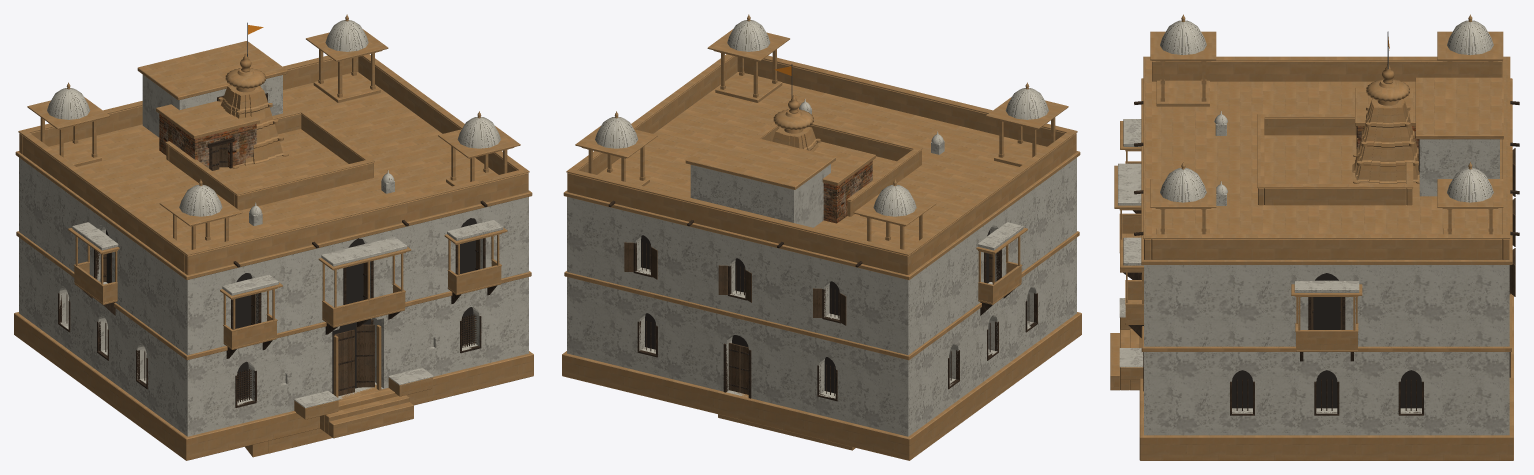
File: southasia.glb
3 renders of one model, left to right at view 1: azimuth 30°, elevation 25°; view 2: azimuth 150°, elevation 25°; view 3: azimuth 270°, elevation 25°, orthographic. The views are drawn at different scales.
Visible parts, largest first — view 1: haveli_mesh, house_town_mesh, temple_small_mesh, well_step_mesh; view 2: haveli_mesh, house_town_mesh, temple_small_mesh, well_step_mesh; view 3: haveli_mesh, temple_small_mesh, house_town_mesh.
Boxes of the visible parts, bbox=[...] form: haveli_mesh: bbox=[14, 14, 533, 460]; house_town_mesh: bbox=[156, 101, 394, 225]; temple_small_mesh: bbox=[218, 22, 288, 168]; well_step_mesh: bbox=[245, 428, 332, 457]; haveli_mesh: bbox=[562, 14, 1081, 460]; house_town_mesh: bbox=[799, 99, 944, 223]; temple_small_mesh: bbox=[772, 64, 820, 151]; well_step_mesh: bbox=[718, 414, 855, 450]; haveli_mesh: bbox=[1110, 14, 1519, 460]; temple_small_mesh: bbox=[1352, 31, 1419, 183]; house_town_mesh: bbox=[1214, 87, 1418, 205].
Bounding box in the file's own units: 16.9 × 15.48 × 14.55.
19 materials, 13 textured.
